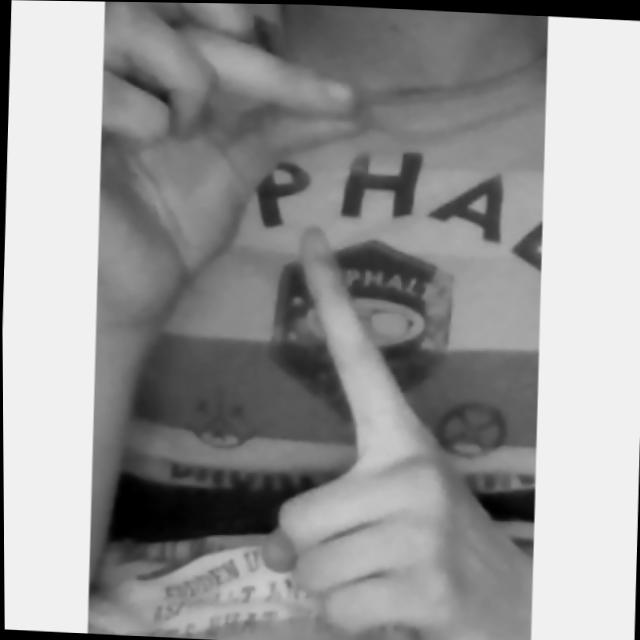I-: (80, 1, 554, 640)
